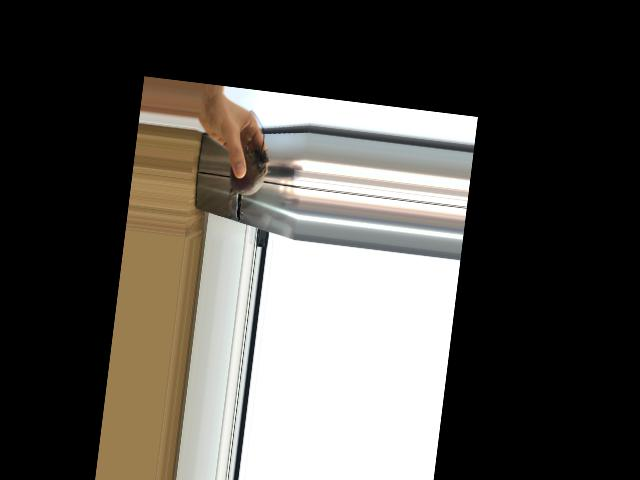beet: (226, 109, 274, 205)
